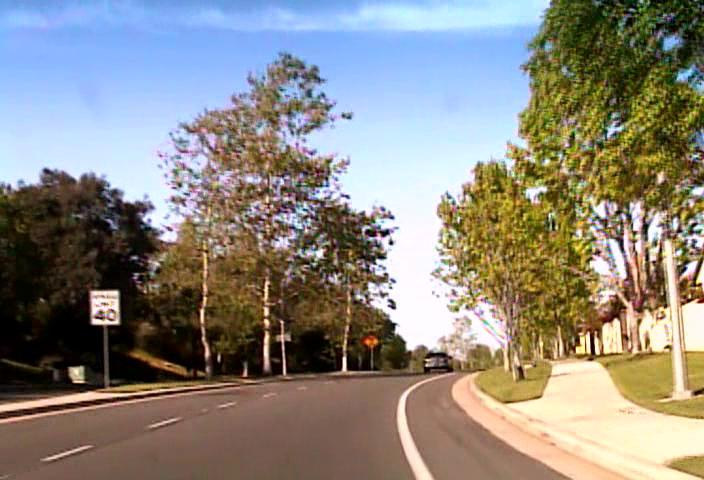speedLimit40: (89, 289, 120, 325)
